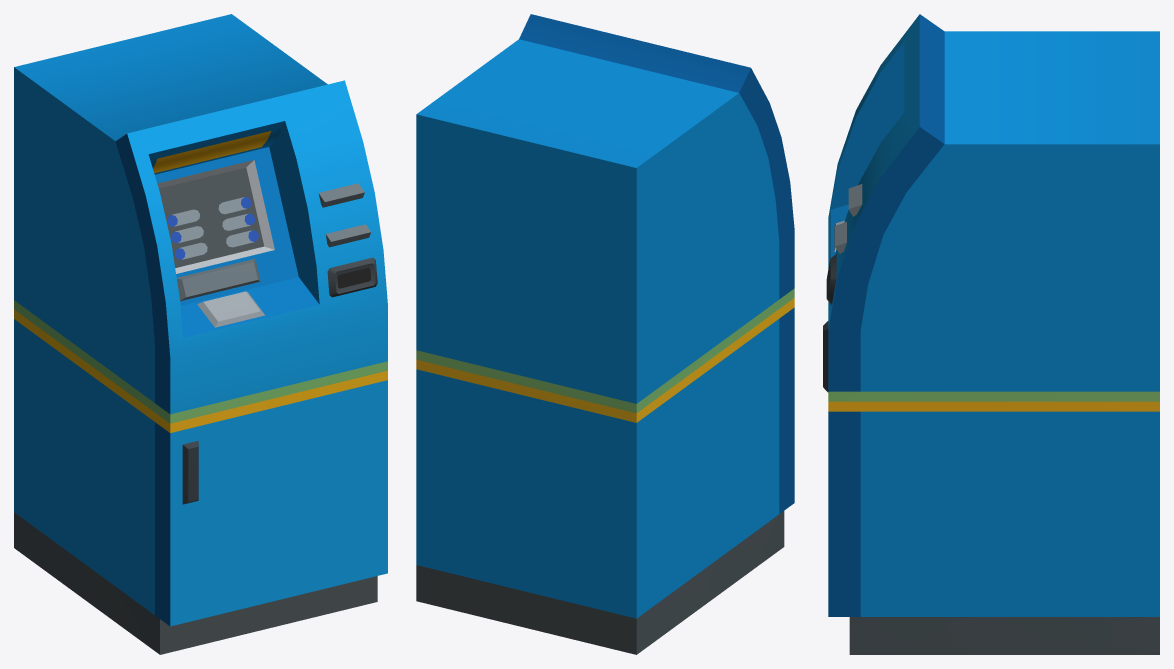
The model's file is atm-01.glb.
3 renders of one model, left to right at view 1: azimuth 30°, elevation 25°; view 2: azimuth 150°, elevation 25°; view 3: azimuth 270°, elevation 25°, orthographic. The views are drawn at different scales.
Parts seen in each view (by area): view 1: ATM_01; view 2: ATM_01; view 3: ATM_01.
Boxes of the visible parts, x1,y1,x2,y2 form: ATM_01: [14, 14, 387, 654]; ATM_01: [416, 14, 794, 654]; ATM_01: [823, 14, 1159, 654].
Bounding box in the file's own units: 0.7923 × 1.73 × 0.9999.
2 materials, 2 textured.
